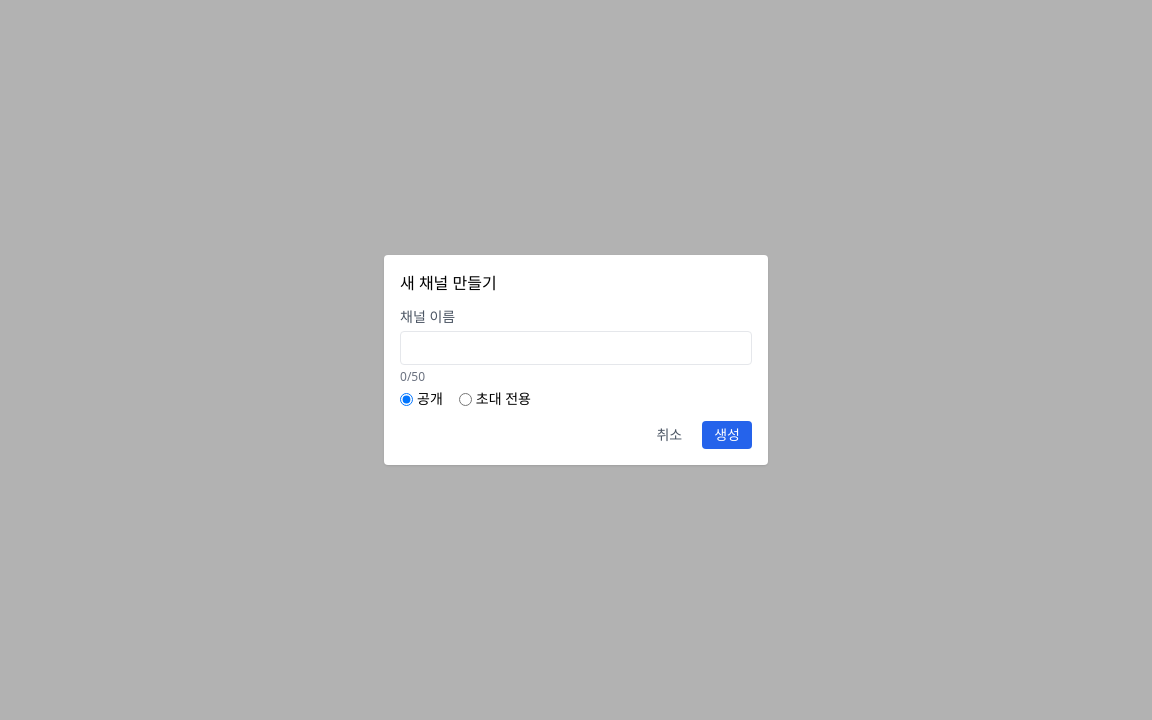
Test: CreateChannelModal (example-based) › reflects the channel name length in the counter as the user types
This screenshot has width=1152, height=720.
Check: the text with test id "create-channel-modal-name-counter" reads "0/50", box [400,368,425,385]
Type "general" into the field with test id "create-channel-modal-name-input" at coordinates (576, 348), box [400,331,752,365]
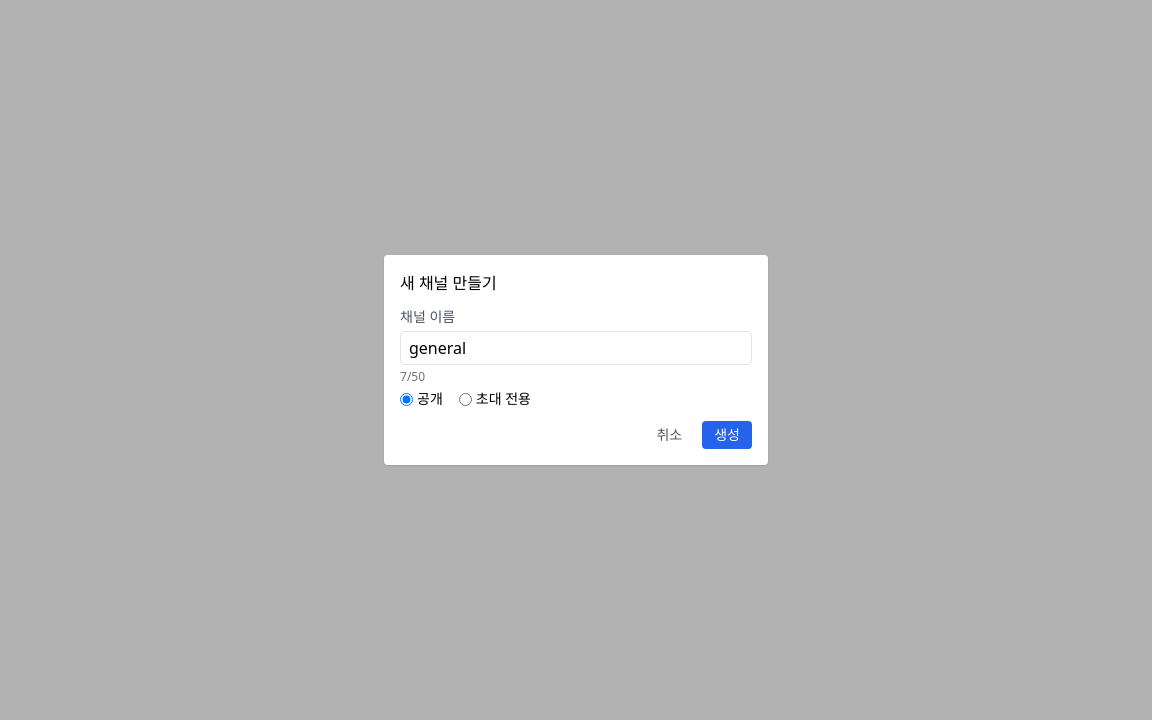
Check: the text with test id "create-channel-modal-name-counter" reads "7/50", box [400,368,425,385]
